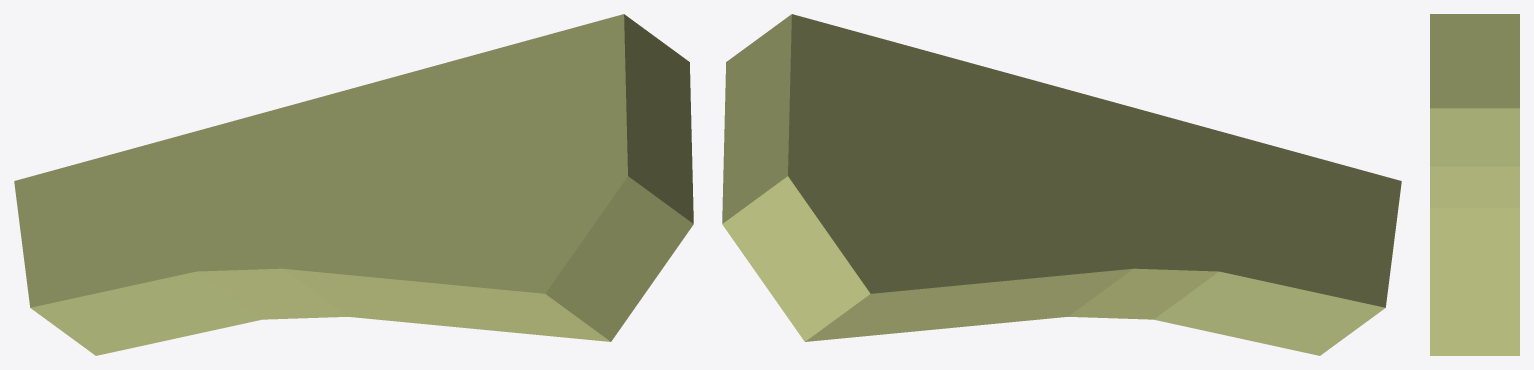
3 views of the same model, side by side, from view 1: azimuth 30°, elevation 25°; view 2: azimuth 150°, elevation 25°; view 3: azimuth 270°, elevation 25° (orthographic). The views are drawn at different scales.
Visible parts, largest first — view 1: 0_3_0_1_1_2_3_2_0; view 2: 0_3_0_1_1_2_3_2_0; view 3: 0_3_0_1_1_2_3_2_0.
Boxes of the visible parts, <box> form: 0_3_0_1_1_2_3_2_0: <box>14,14,693,355</box>; 0_3_0_1_1_2_3_2_0: <box>722,14,1401,355</box>; 0_3_0_1_1_2_3_2_0: <box>1430,14,1519,355</box>.
Bounding box in the file's own units: 32.33 × 13.12 × 6.
